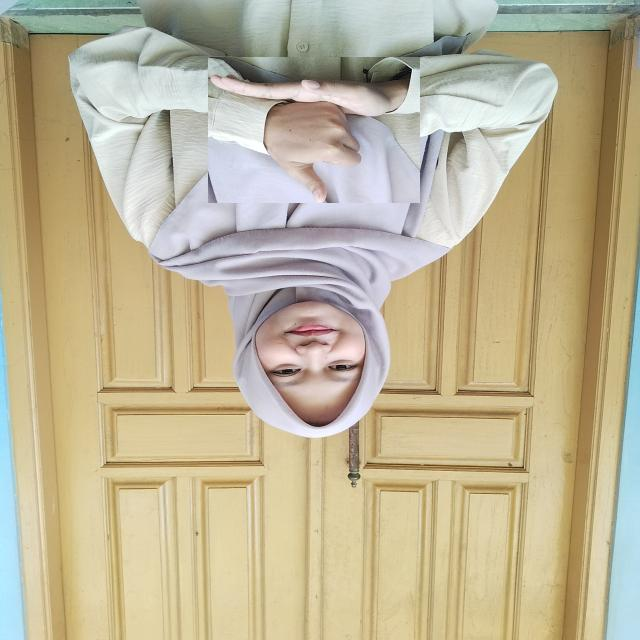cantik: (208, 57, 420, 203)
